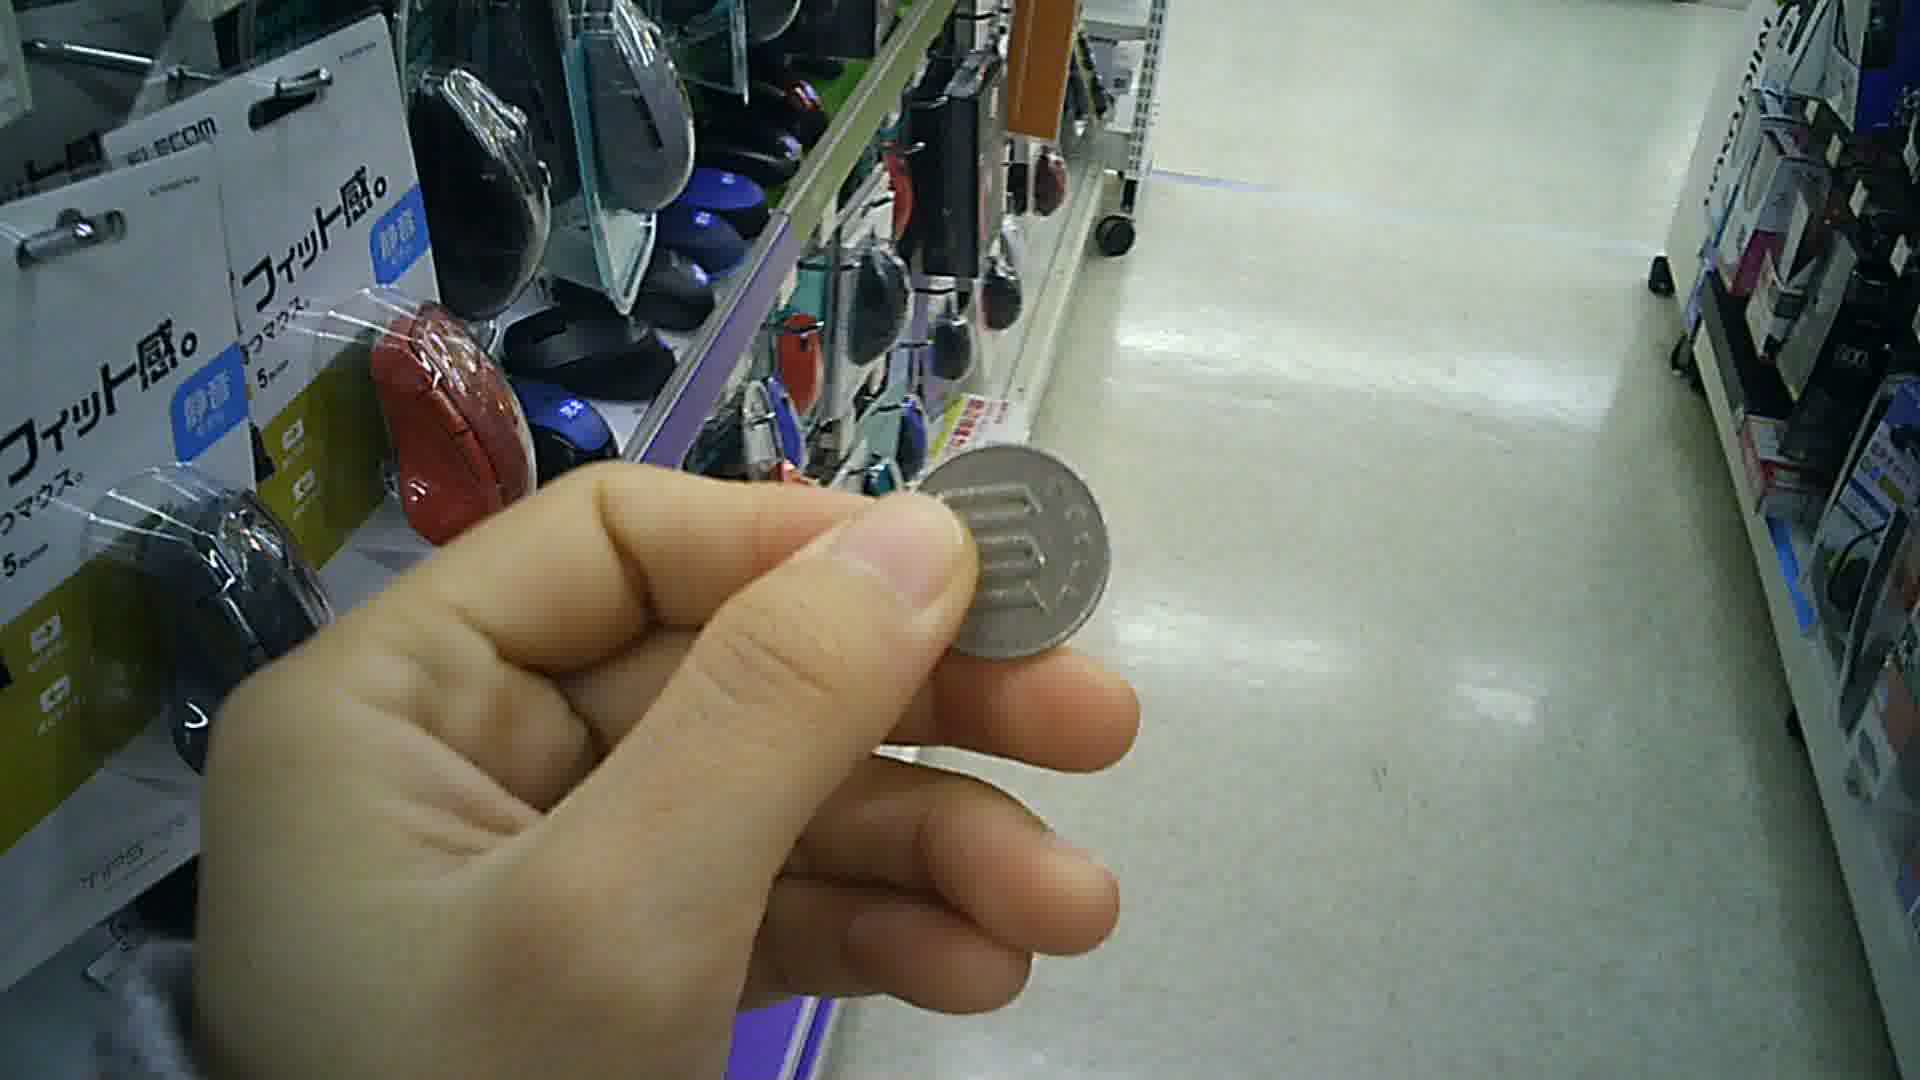100 Yen: (906, 436, 1110, 661)
